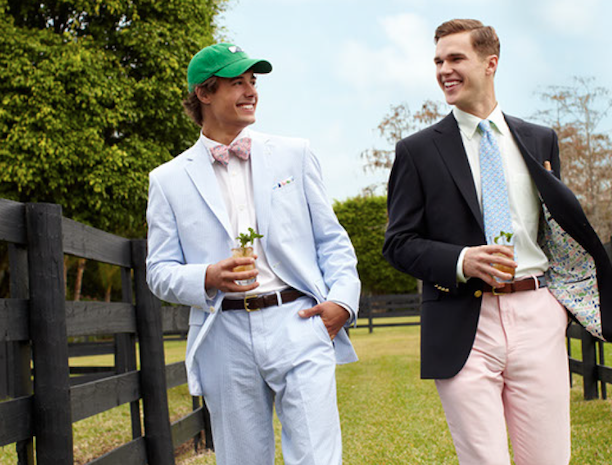Person: (382, 18, 612, 465), (146, 43, 361, 465)
